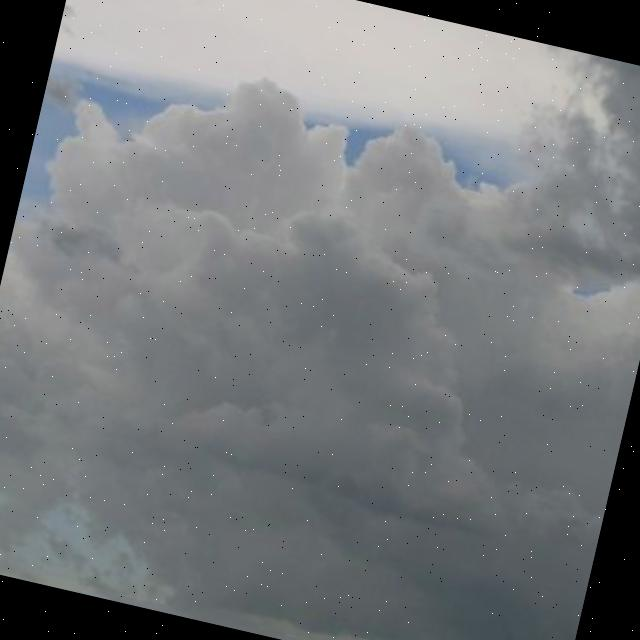Cu: (1, 1, 640, 554)
